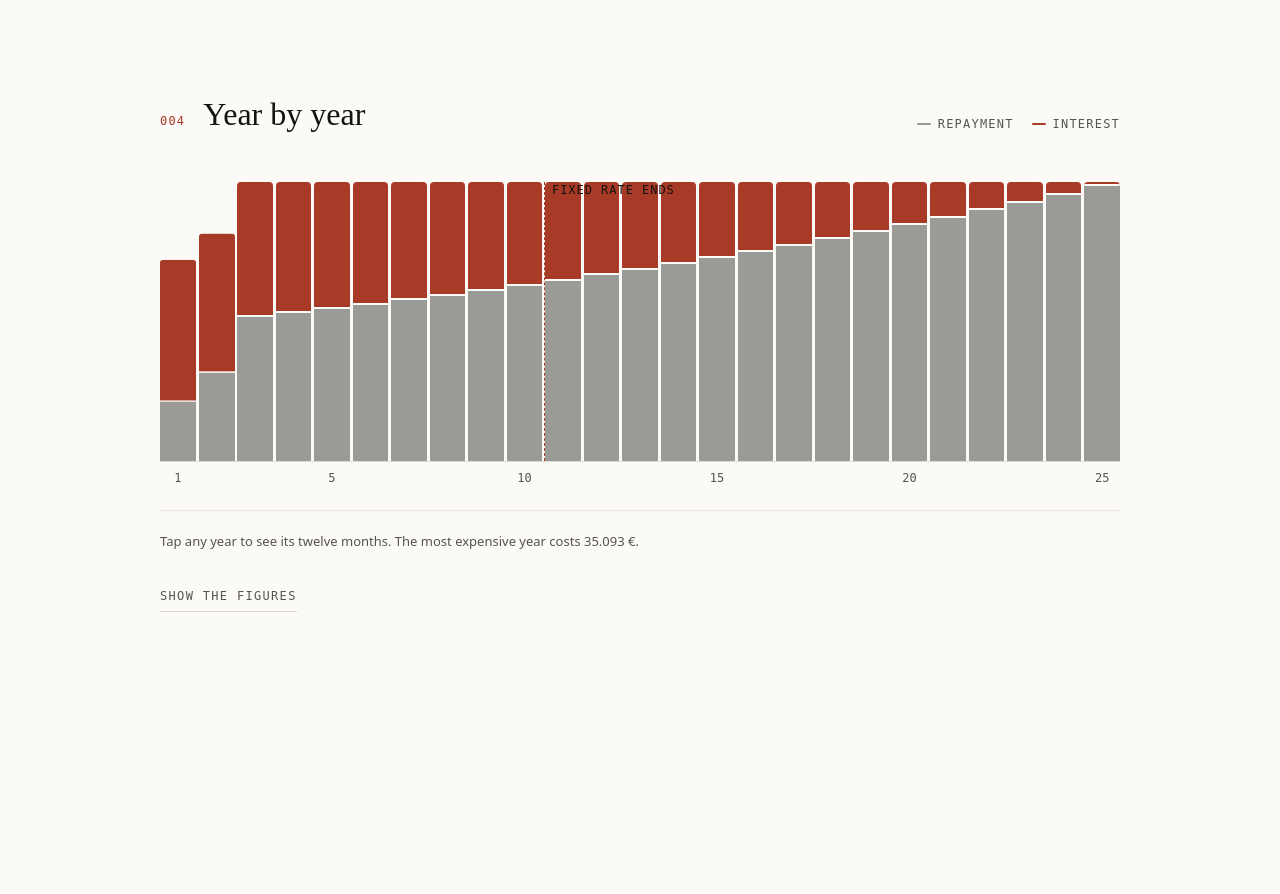
Test: year by year › publishes the figures as a table
Click the button "Show the figures": (228,597) [160, 582, 297, 612]
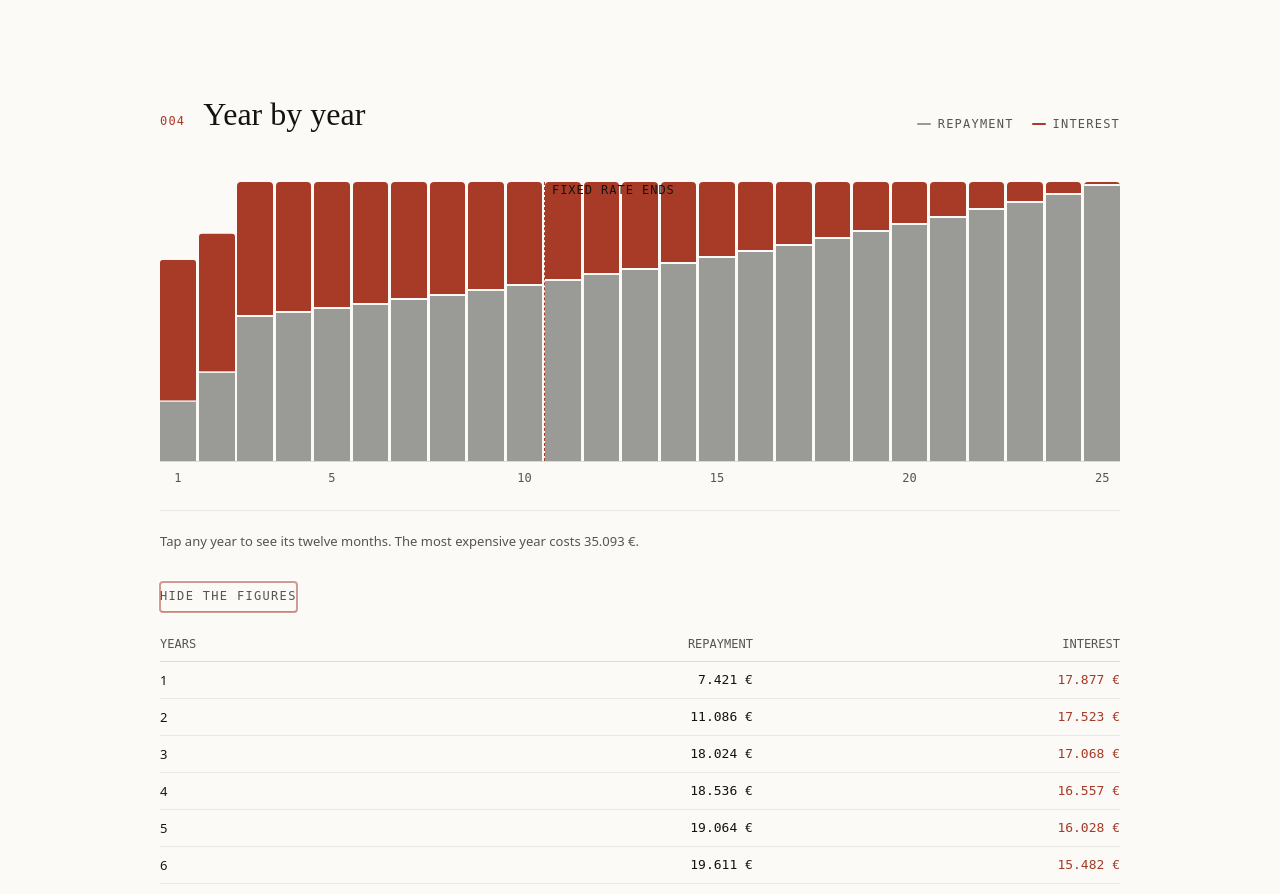
expect the button "Hide the figures" is shown: met, box [160, 582, 297, 612]
